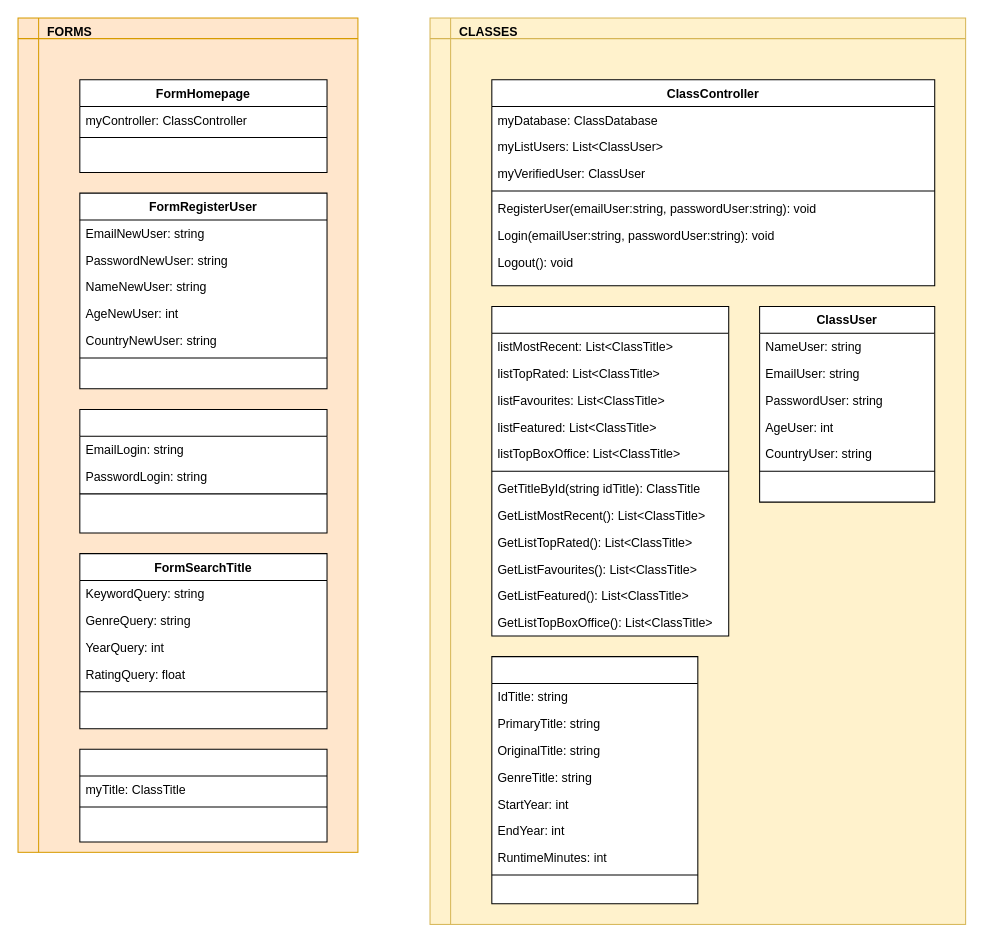
The diagram is 984 pixels wide and 942 high, and some of its shapes have lost their labels. Here are the shapes that lost their labels. From the top down, the box of each, then its label:
(79, 408, 327, 533): FormLoginUser
(491, 305, 729, 636): ClassDatabase
(79, 748, 327, 842): FormTitleInformation
(491, 656, 698, 904): ClassTitle
